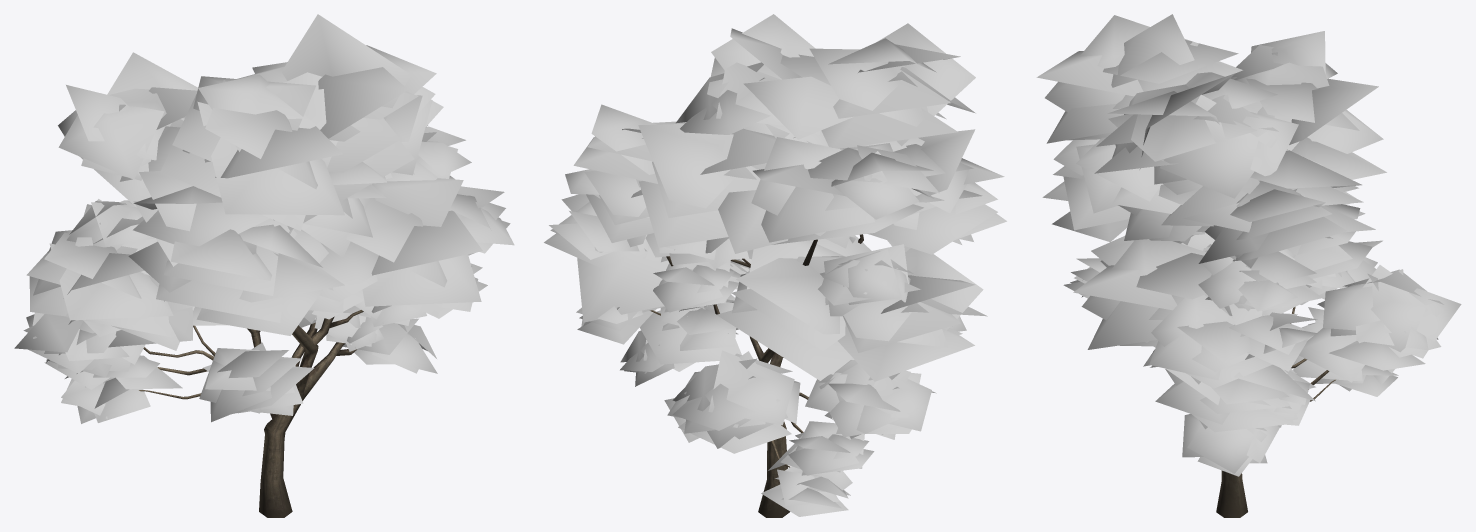
File: Choerospondias Tree.fbx
3 renders of one model, left to right at view 1: azimuth 30°, elevation 25°; view 2: azimuth 150°, elevation 25°; view 3: azimuth 270°, elevation 25°, orthographic. The views are drawn at different scales.
Parts seen in each view (by area): view 1: Tree_LOD0; view 2: Tree_LOD0; view 3: Tree_LOD0.
Boxes of the visible parts, bbox=[...] form: Tree_LOD0: bbox=[14, 14, 514, 517]; Tree_LOD0: bbox=[544, 14, 1006, 517]; Tree_LOD0: bbox=[1036, 14, 1461, 517].
Size of what is drawn, in the model's own units: 791 by 810 by 679.
